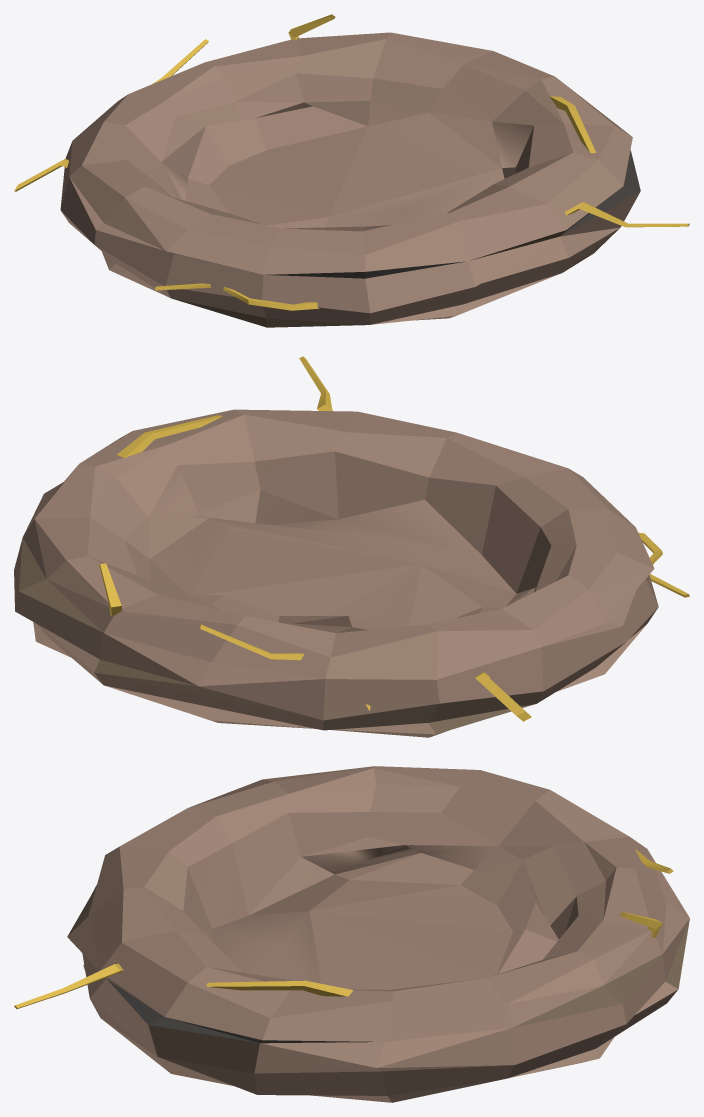
The model's file is nest.glb.
3 renders of one model, top to bottom at view 1: azimuth 30°, elevation 25°; view 2: azimuth 150°, elevation 25°; view 3: azimuth 270°, elevation 25°, orthographic. The views are drawn at different scales.
Visible parts, largest first — view 1: import18; view 2: import18; view 3: import18.
Boxes of the visible parts, x1=… form: import18: x1=14, y1=14, x2=689, y2=327; import18: x1=14, y1=356, x2=689, y2=737; import18: x1=14, y1=766, x2=689, y2=1102.
Bounding box in the file's own units: 0.0677 × 0.0149 × 0.0683.
2 materials, 2 textured.
